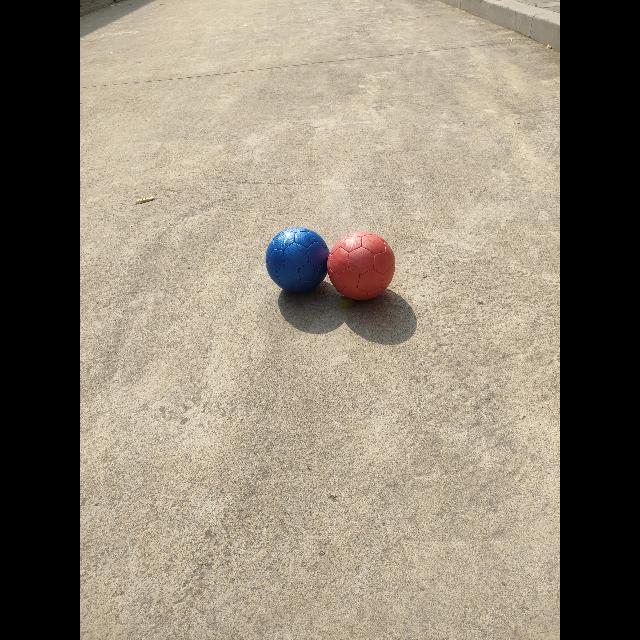B: (265, 226, 329, 292)
R: (326, 231, 395, 300)
